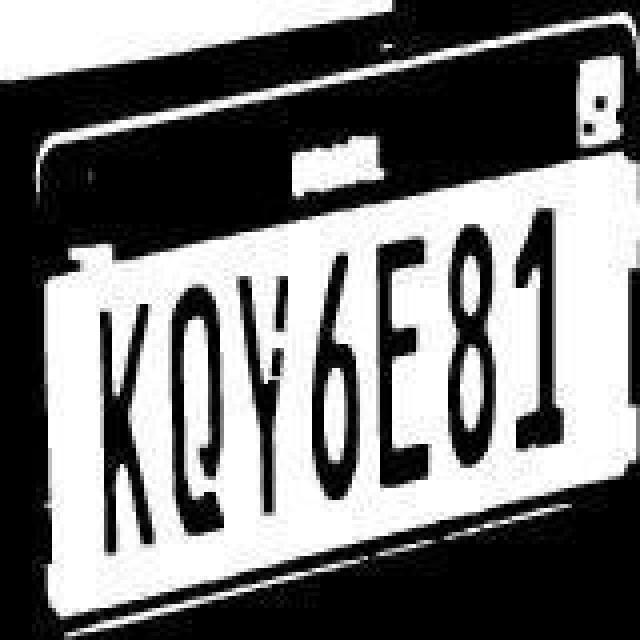1: (498, 204, 582, 476)
6: (288, 230, 368, 514)
8: (426, 210, 502, 486)
E: (354, 220, 438, 500)
K: (80, 270, 160, 562)
Q: (166, 280, 234, 536)
Y: (234, 268, 294, 516)
